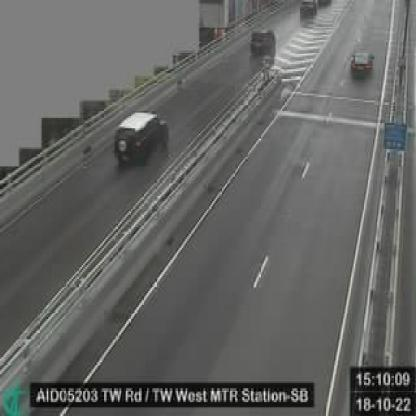Car: (113, 110, 170, 172), (248, 27, 278, 58), (350, 48, 374, 82), (300, 0, 320, 18)
